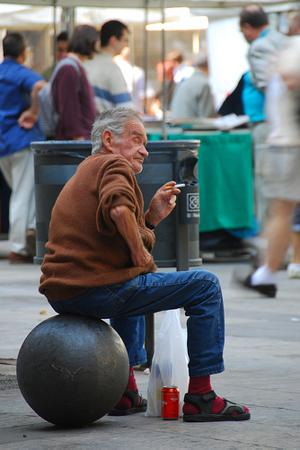person: (40, 105, 251, 425)
